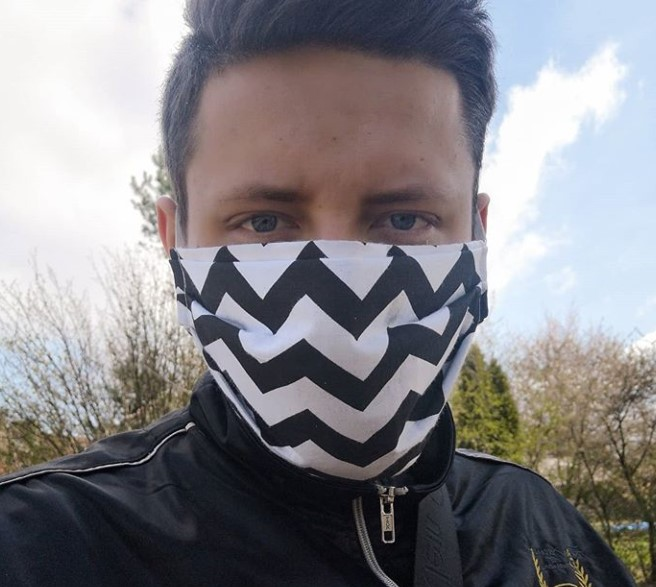face_with_mask: (154, 15, 493, 485)
